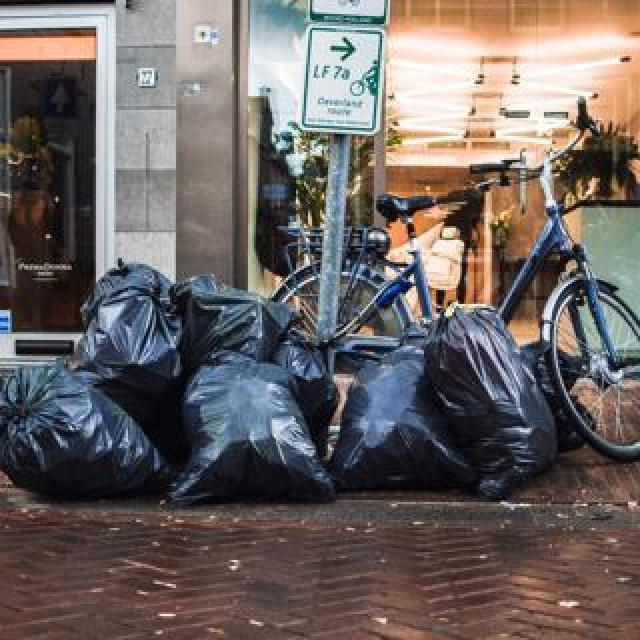Trashbag: (0, 366, 166, 511), (437, 306, 557, 492), (176, 366, 331, 508), (340, 346, 456, 499), (73, 255, 189, 399), (190, 283, 327, 388)
